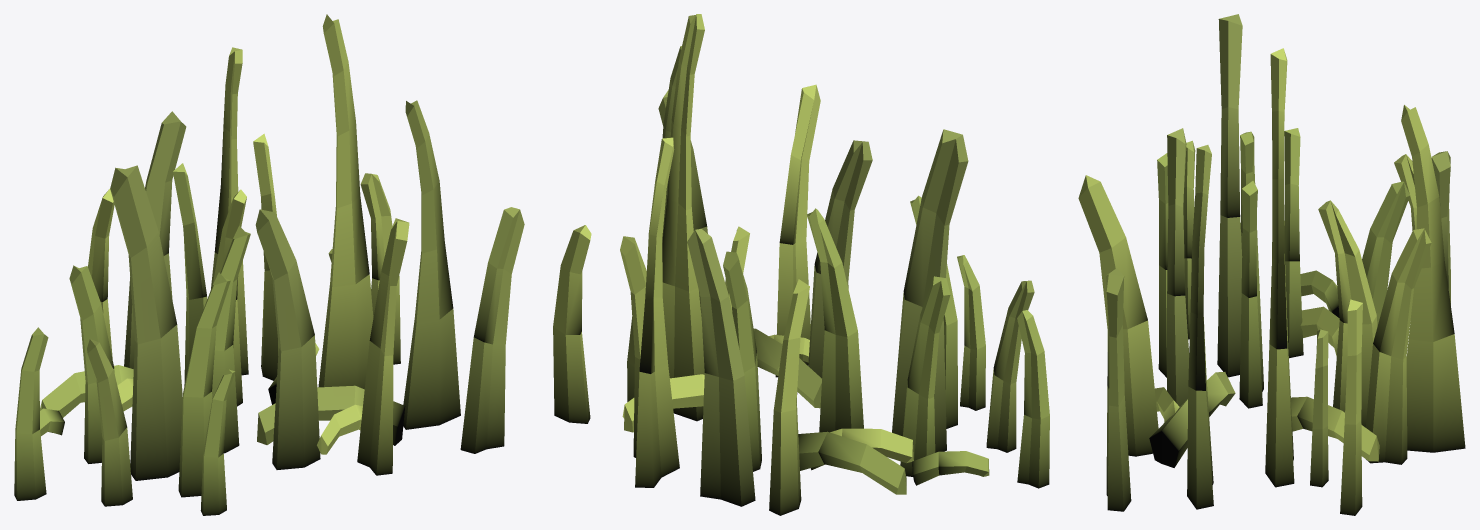
The model's file is EA03_Plant_Grass_01c.glb.
The picture shows the model from 3 angles, left to right: view 1: azimuth 30°, elevation 25°; view 2: azimuth 150°, elevation 25°; view 3: azimuth 270°, elevation 25°; orthographic projection. The views are drawn at different scales.
Parts seen in each view (by area): view 1: EA03_Plant_Grass_01c; view 2: EA03_Plant_Grass_01c; view 3: EA03_Plant_Grass_01c.
Boxes of the visible parts, <box> form: EA03_Plant_Grass_01c: <box>14,14,524,515</box>; EA03_Plant_Grass_01c: <box>553,14,1049,515</box>; EA03_Plant_Grass_01c: <box>1078,14,1465,515</box>.
Size of the model in its own units: 0.8749 by 0.7411 by 0.6277.
1 material, 1 textured.
